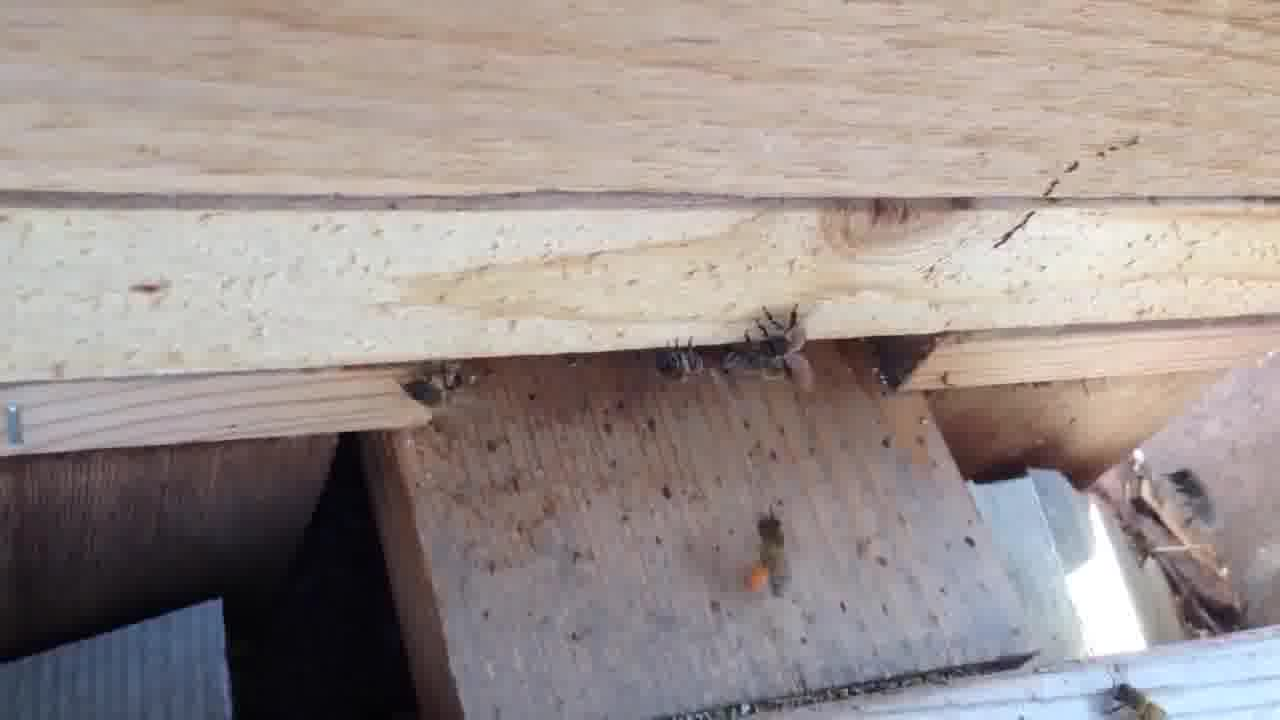pollen: (745, 509, 795, 599)
